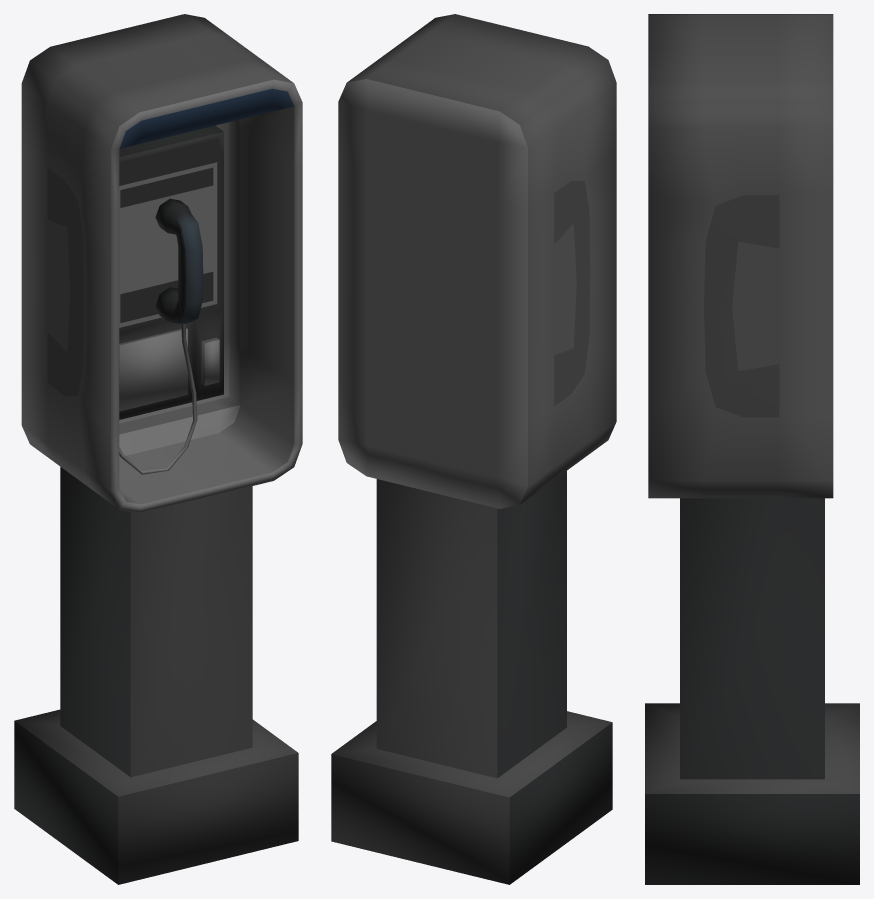
3 views of the same model, side by side, from view 1: azimuth 30°, elevation 25°; view 2: azimuth 150°, elevation 25°; view 3: azimuth 270°, elevation 25° (orthographic). The views are drawn at different scales.
Visible parts, largest first — view 1: PayPhone; view 2: PayPhone; view 3: PayPhone.
Boxes of the visible parts, bbox=[...] form: PayPhone: bbox=[14, 14, 302, 884]; PayPhone: bbox=[331, 14, 616, 884]; PayPhone: bbox=[645, 14, 859, 884].
Bounding box in the file's own units: 0.1311 × 0.5 × 0.1231.
